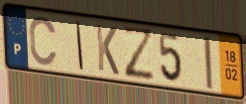5: (158, 31, 184, 84)
C: (28, 14, 59, 68)
I: (202, 35, 215, 92), (74, 20, 85, 73)
K: (94, 22, 121, 78)
Z: (120, 24, 157, 82)
